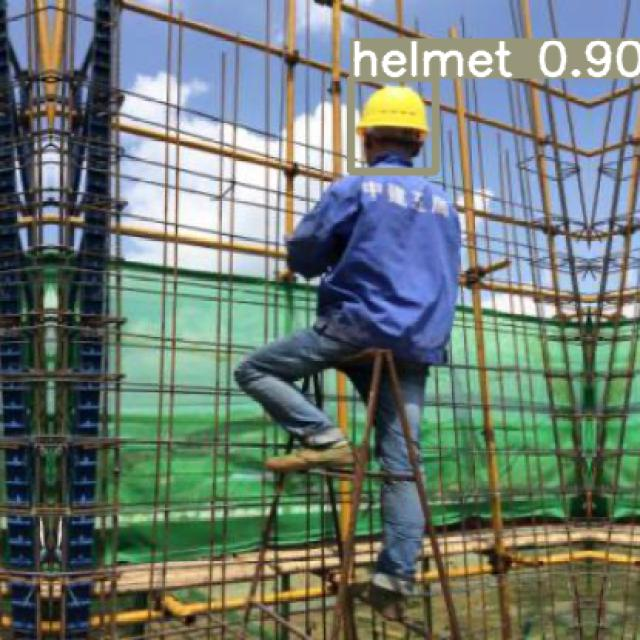helmet: (357, 86, 427, 132)
